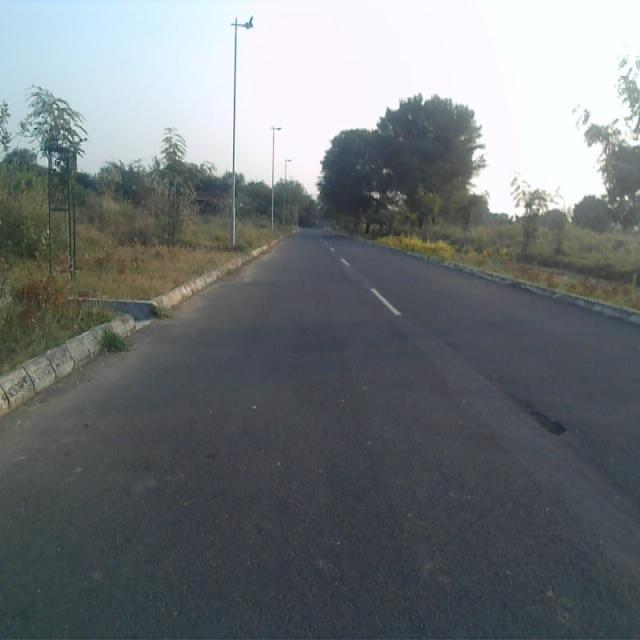lane: (0, 234, 640, 640)
